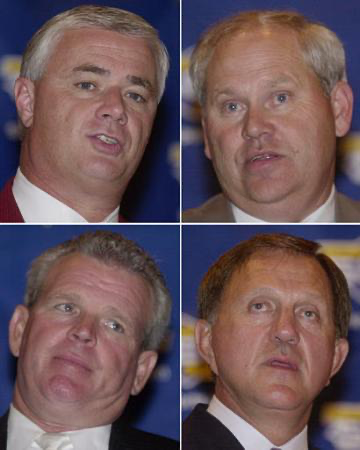Face: (203, 71, 339, 204), (218, 276, 336, 424), (50, 44, 160, 194), (31, 278, 141, 419)
